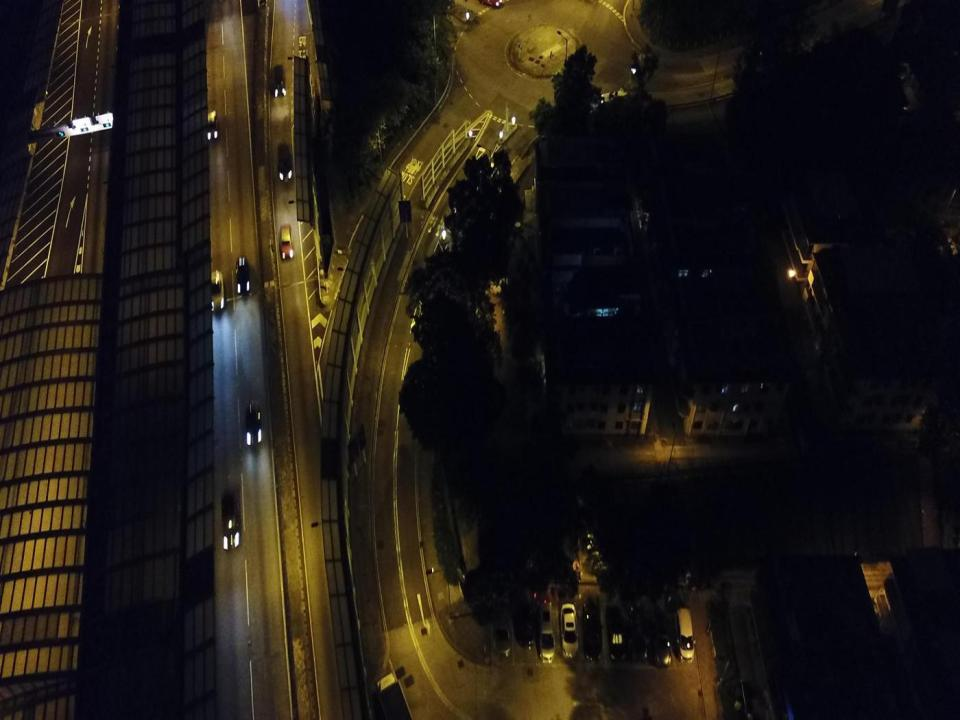car: (513, 583, 535, 648), (490, 596, 512, 660), (536, 600, 557, 664), (582, 600, 603, 661), (672, 606, 695, 661), (651, 608, 672, 668), (559, 603, 580, 661), (221, 491, 241, 550), (630, 606, 650, 664), (608, 607, 628, 663), (244, 400, 262, 445), (207, 270, 226, 312), (276, 142, 294, 182), (235, 254, 252, 295), (272, 64, 287, 98), (280, 223, 294, 259), (204, 109, 220, 140)
truck: (376, 672, 415, 719)
